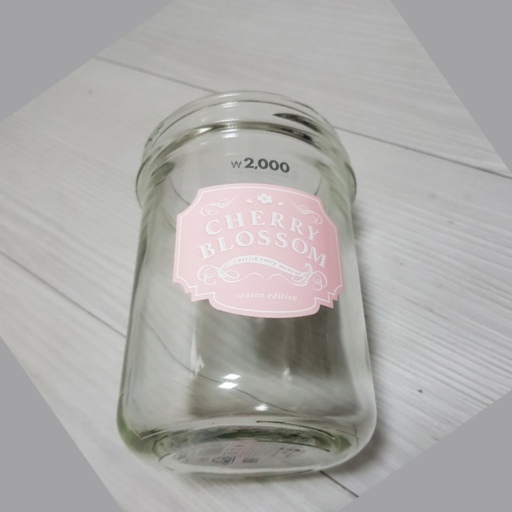Glass_5: (115, 89, 376, 475)
